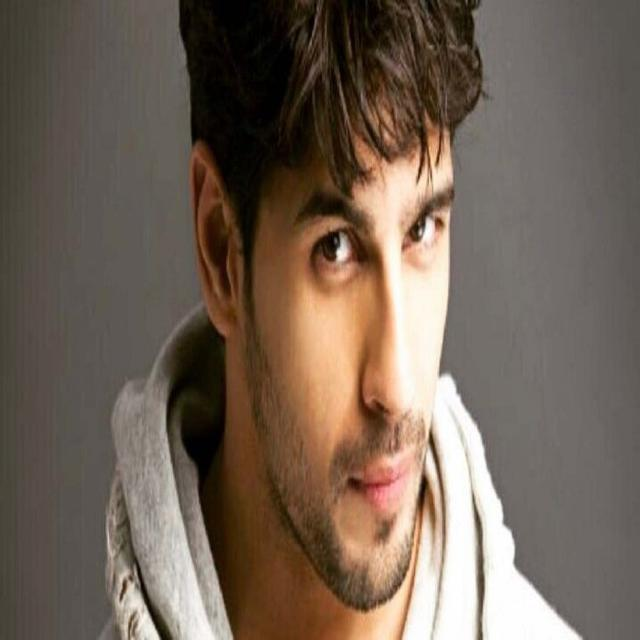mobile_phonerotation: (100, 1, 586, 636)
